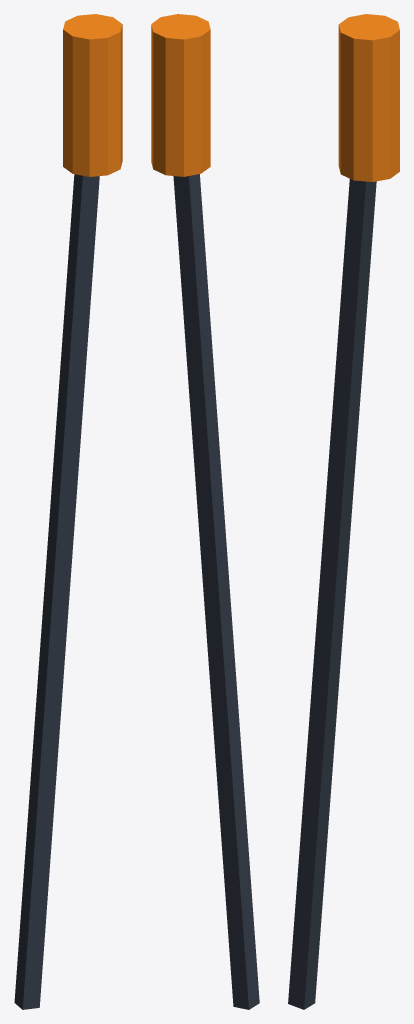
File: Ski_Poles.fbx
3 views of the same model, side by side, from view 1: azimuth 30°, elevation 25°; view 2: azimuth 150°, elevation 25°; view 3: azimuth 330°, elevation 25° (orthographic). The views are drawn at different scales.
Parts seen in each view (by area): view 1: Poles; view 2: Poles; view 3: Poles.
Part boxes in pixels (box(x1,y1,x2,y2)): Poles: box(14, 14, 122, 1009); Poles: box(151, 14, 259, 1009); Poles: box(288, 14, 399, 1009).
Bounding box in the file's own units: 0.1514 × 1.4 × 0.08.
